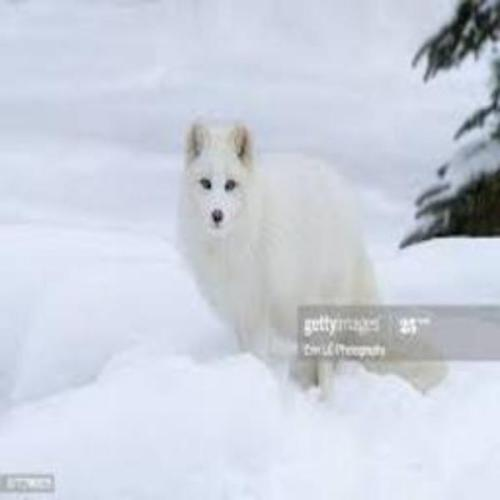arctic_fox-endangered: (174, 119, 450, 403)
